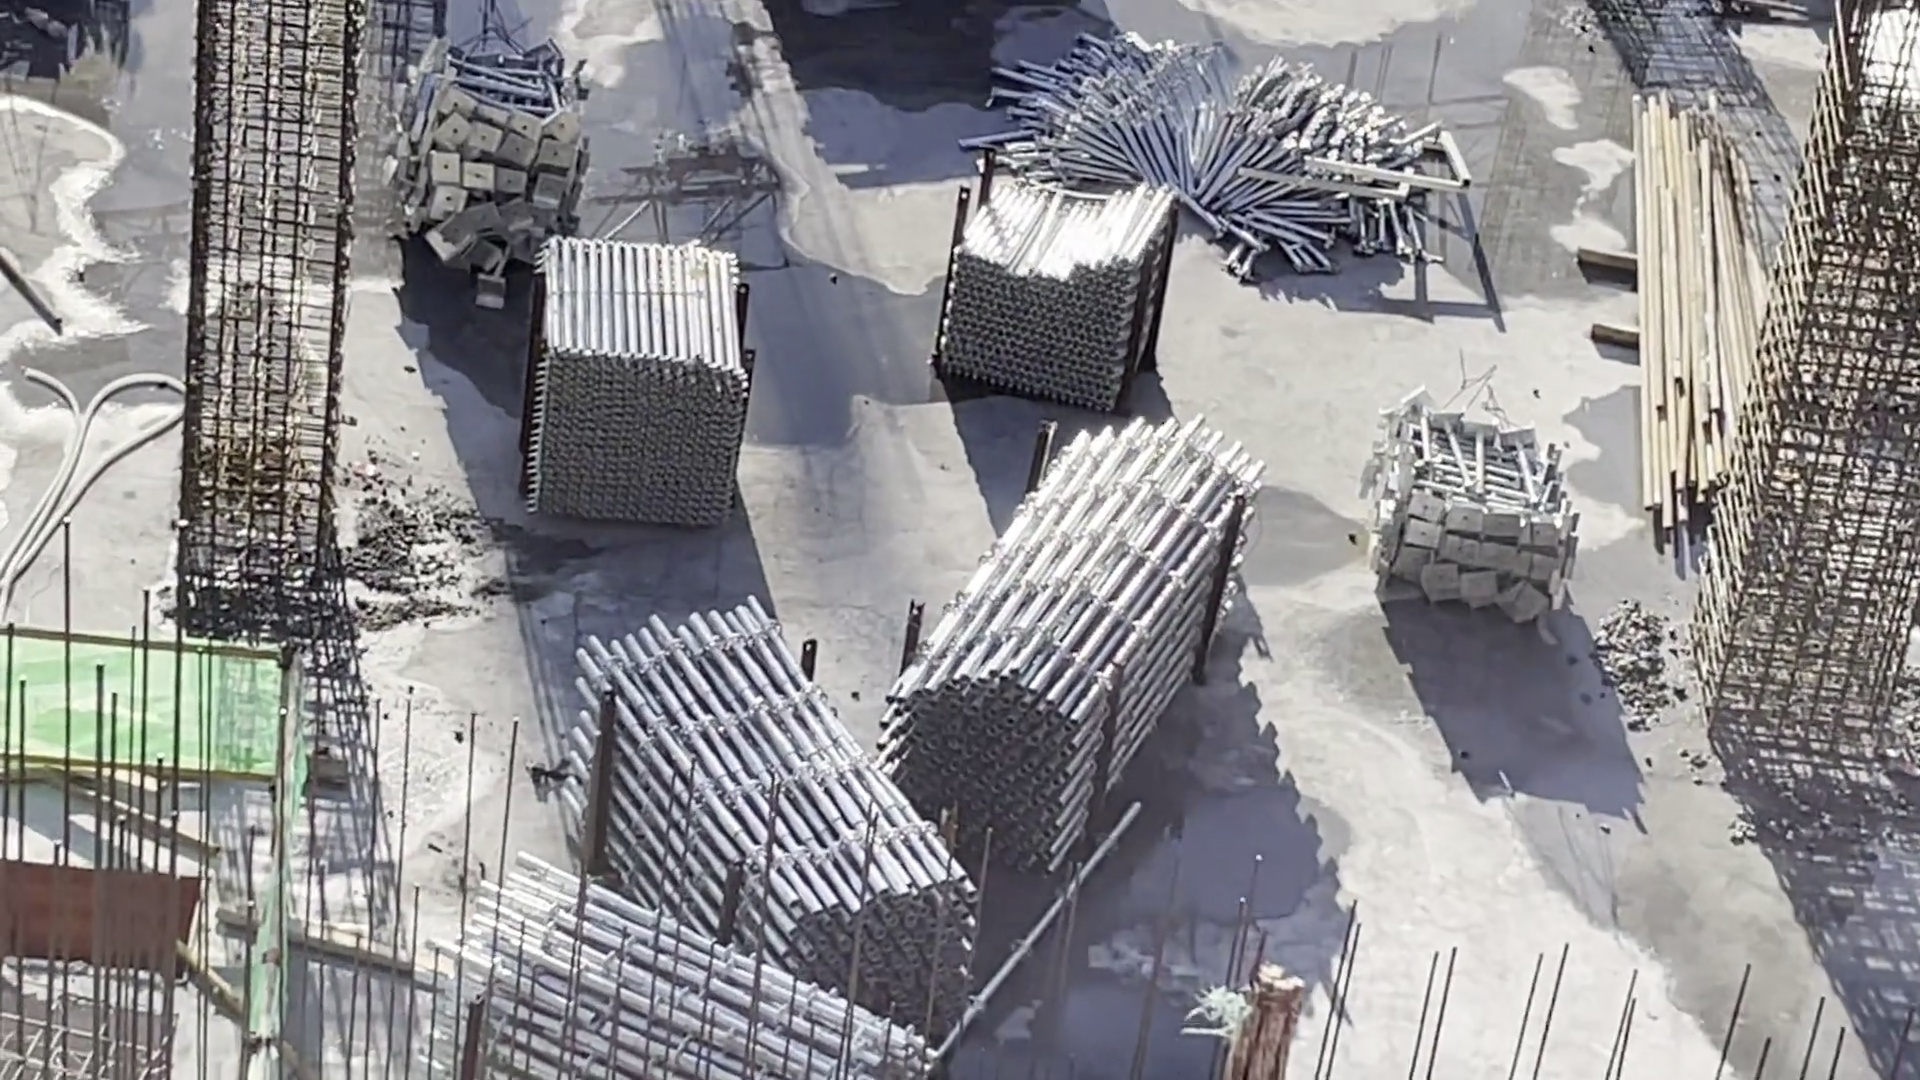scaffold: (554, 611, 964, 1023), (910, 411, 1271, 822), (400, 884, 949, 1080), (1011, 28, 1429, 274), (514, 224, 750, 506), (945, 167, 1168, 394), (1364, 382, 1538, 613), (396, 61, 556, 268)
